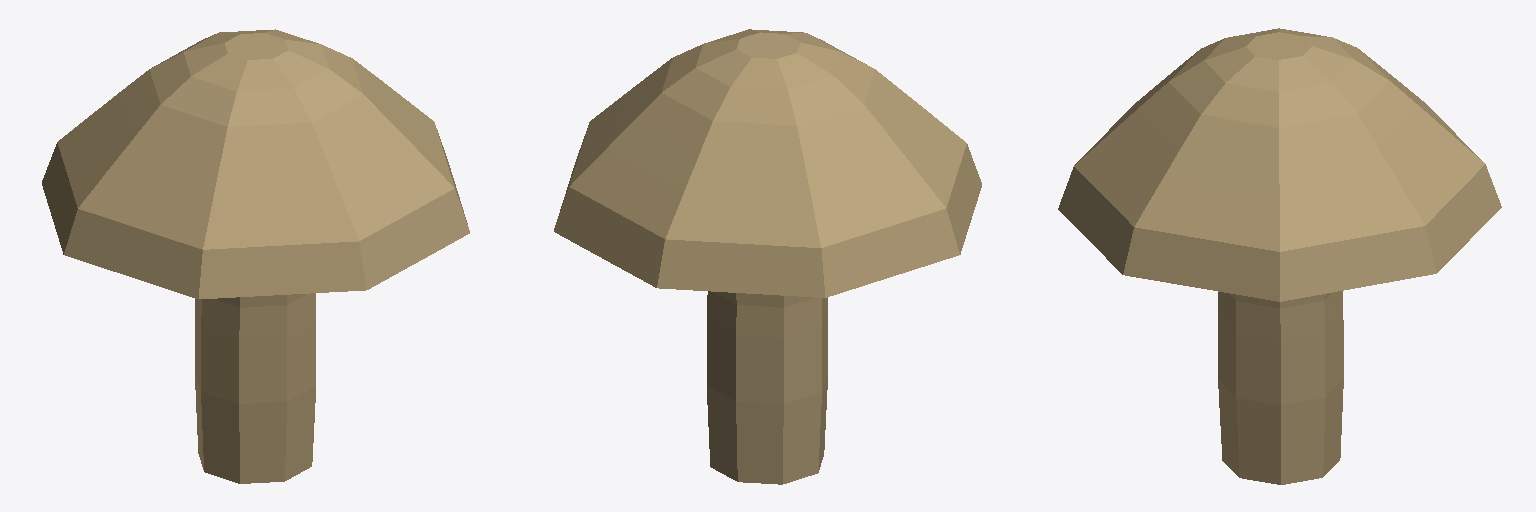
Rendered from mush1.obj.
The picture shows the model from 3 angles: view 1: azimuth 30°, elevation 25°; view 2: azimuth 150°, elevation 25°; view 3: azimuth 270°, elevation 25°; orthographic projection.
Visible parts, largest first — view 1: Object_36; view 2: Object_36; view 3: Object_36.
Boxes of the visible parts, box(x1,y1,x2,y2) form: Object_36: box(42, 29, 469, 483); Object_36: box(554, 29, 981, 484); Object_36: box(1058, 28, 1501, 484).
Size of the model in its own units: 15.92 by 16.62 by 15.92.